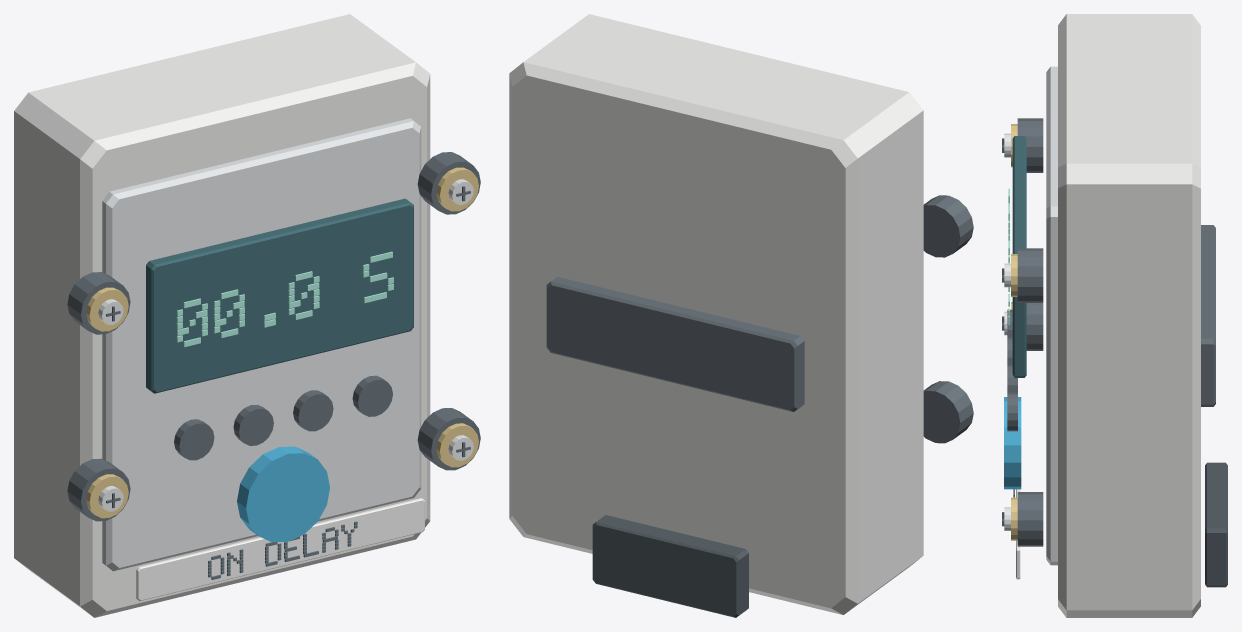
File: timer.glb
3 views of the same model, side by side, from view 1: azimuth 30°, elevation 25°; view 2: azimuth 150°, elevation 25°; view 3: azimuth 270°, elevation 25° (orthographic). The views are drawn at different scales.
Visible parts, largest first — view 1: timer-preview; view 2: timer-preview; view 3: timer-preview.
Part boxes in pixels (left/top/right/bottom): timer-preview: left=14, top=14, right=480, bottom=617; timer-preview: left=509, top=14, right=973, bottom=617; timer-preview: left=1002, top=14, right=1227, bottom=617.
Size of the model in its own units: 2.52 by 2.95 by 1.29.
